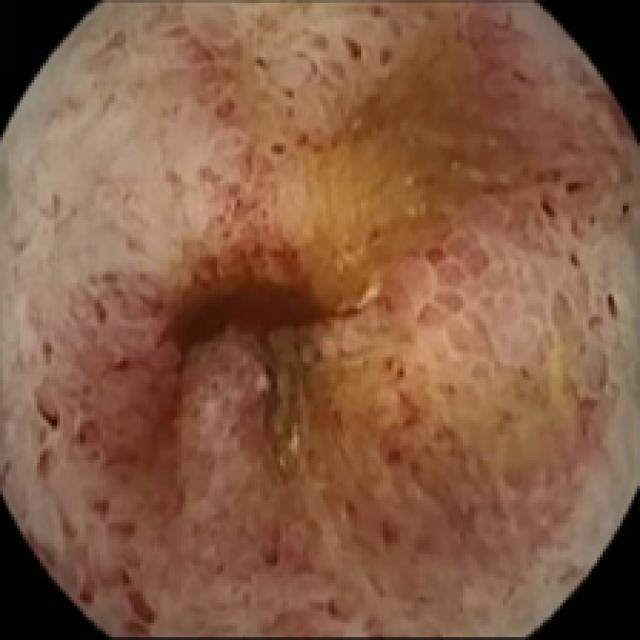bleeding: (38, 24, 632, 640), (624, 314, 625, 316)
